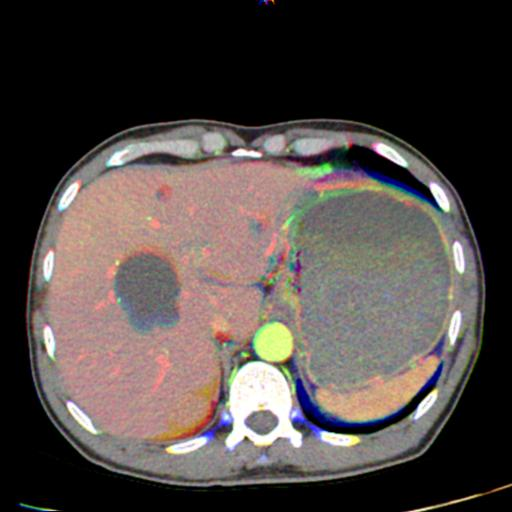Cyst: (113, 253, 180, 332)
